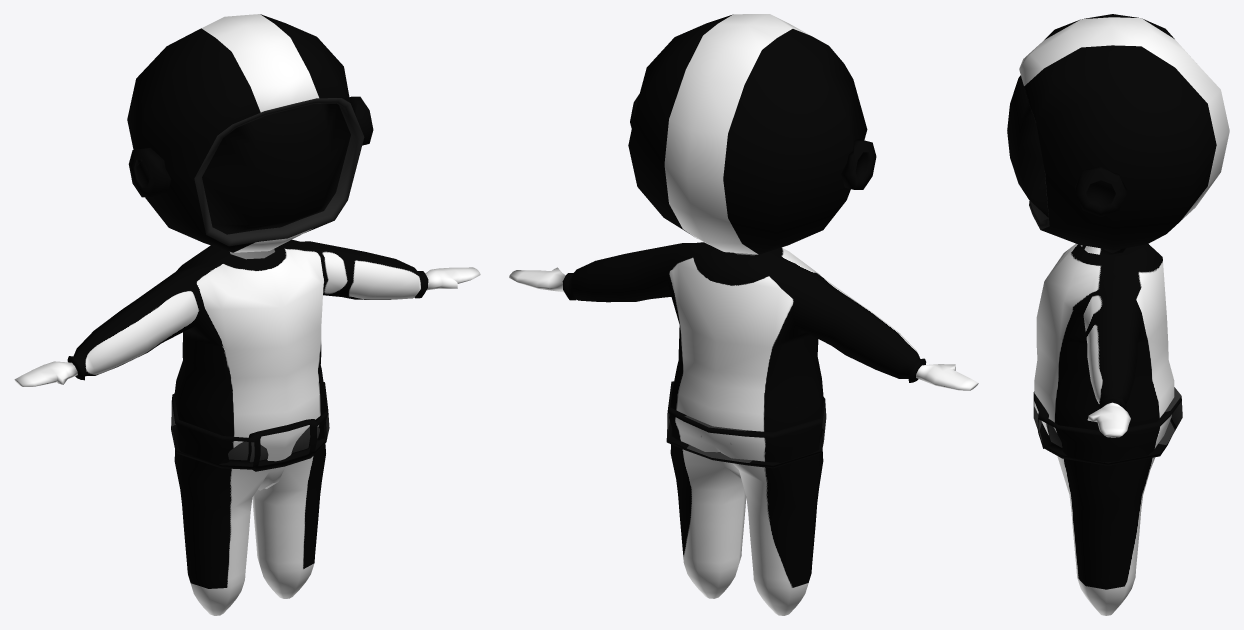
The model's file is astronauta3.glb.
3 renders of one model, left to right at view 1: azimuth 30°, elevation 25°; view 2: azimuth 150°, elevation 25°; view 3: azimuth 270°, elevation 25°, orthographic. The views are drawn at different scales.
Visible parts, largest first — view 1: Sphere.003, Sphere.002, Cube; view 2: Sphere.003, Sphere.002, Cube; view 3: Sphere.002, Sphere.003, Cube.
Part boxes in pixels (bbox=[...]): Sphere.003: bbox=[14, 239, 480, 615]; Sphere.002: bbox=[127, 14, 373, 252]; Cube: bbox=[171, 382, 329, 471]; Sphere.003: bbox=[509, 242, 978, 615]; Sphere.002: bbox=[628, 14, 876, 254]; Cube: bbox=[666, 381, 826, 468]; Sphere.002: bbox=[1007, 14, 1229, 250]; Sphere.003: bbox=[1034, 243, 1174, 615]; Cube: bbox=[1033, 387, 1182, 465].
Size of the model in its own units: 6.21 by 7.5 by 2.65.
8 materials, 1 textured.
